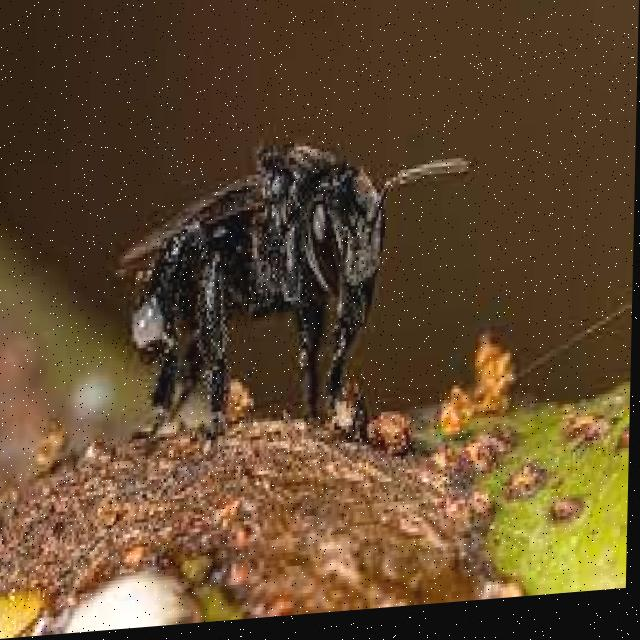Meliponula: (132, 98, 395, 442)
